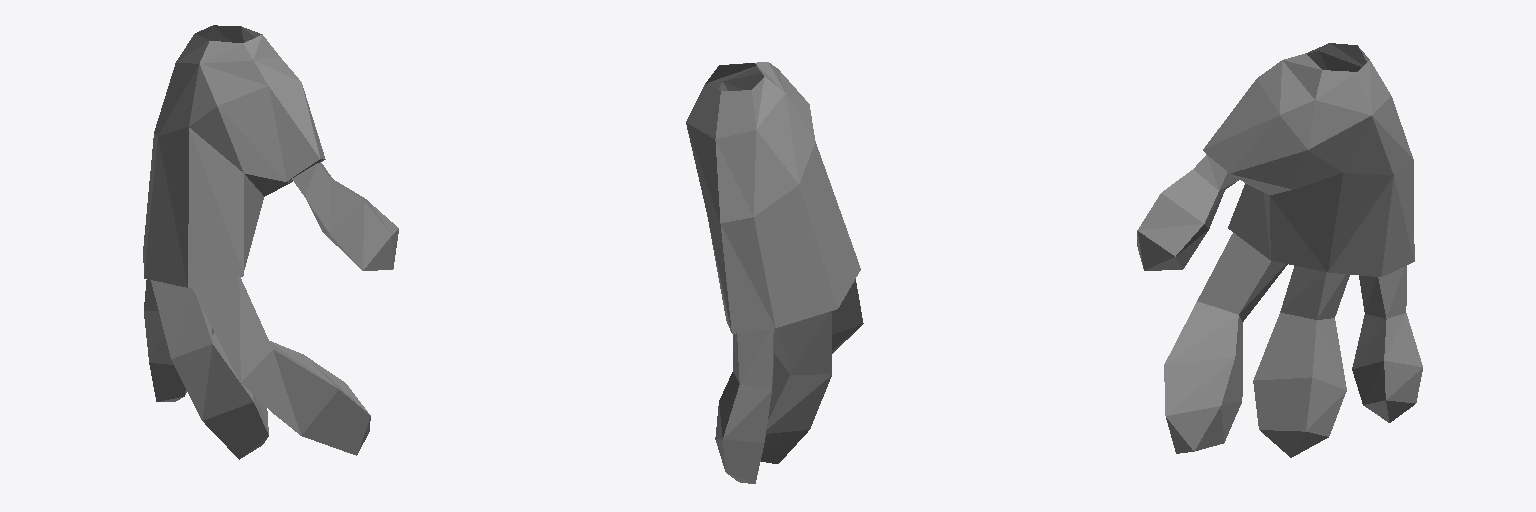
File: ManoDerecho.obj
3 views of the same model, side by side, from view 1: azimuth 30°, elevation 25°; view 2: azimuth 150°, elevation 25°; view 3: azimuth 270°, elevation 25° (orthographic).
Visible parts, largest first — view 1: ManoDerecho_Mesh_0030.003; view 2: ManoDerecho_Mesh_0030.003; view 3: ManoDerecho_Mesh_0030.003.
Boxes of the visible parts, x1=… form: ManoDerecho_Mesh_0030.003: x1=143, y1=25, x2=398, y2=459; ManoDerecho_Mesh_0030.003: x1=686, y1=62, x2=863, y2=483; ManoDerecho_Mesh_0030.003: x1=1137, y1=43, x2=1422, y2=457.
Bounding box in the file's own units: 5.14 × 10.96 × 7.02.